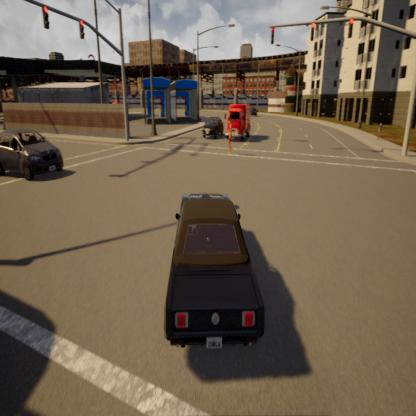Cars: (162, 192, 265, 362), (0, 125, 64, 186), (204, 115, 224, 141)
Pedestrian: (226, 116, 235, 158)
